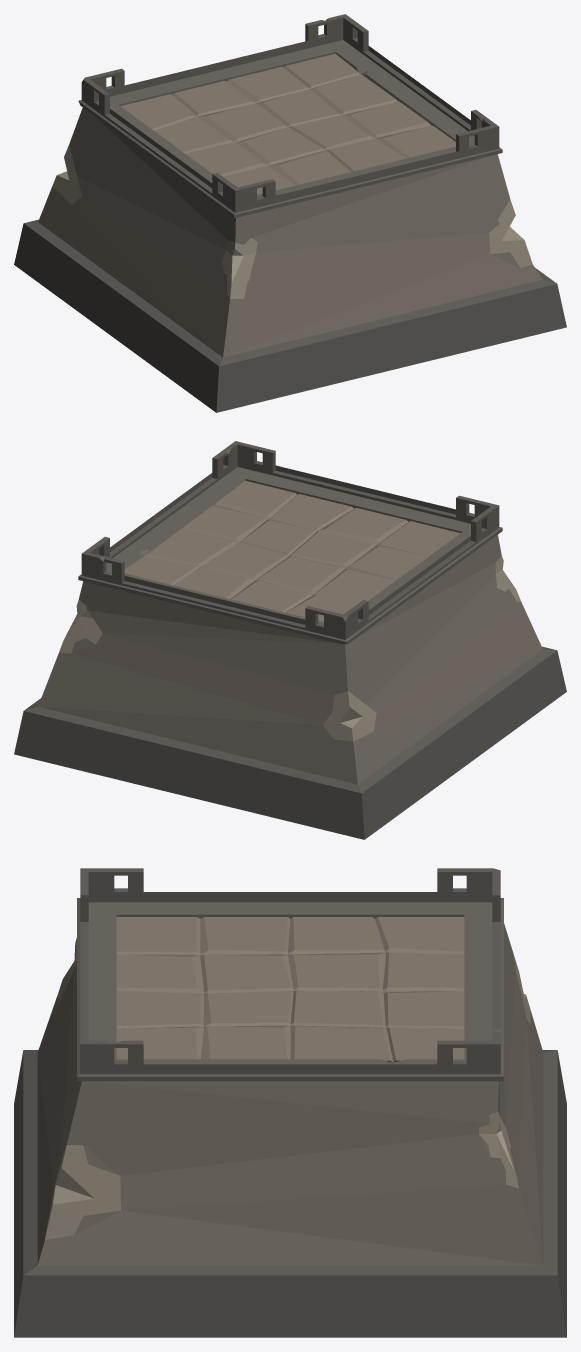
The model's file is SM_Bld_Fort_Base_03.glb.
3 renders of one model, top to bottom at view 1: azimuth 30°, elevation 25°; view 2: azimuth 150°, elevation 25°; view 3: azimuth 270°, elevation 25°, orthographic. The views are drawn at different scales.
Visible parts, largest first — view 1: node_id4; view 2: node_id4; view 3: node_id4.
Boxes of the visible parts, x1,y1,x2,y2 form: node_id4: [14, 14, 566, 412]; node_id4: [14, 441, 566, 839]; node_id4: [14, 868, 566, 1337].
Bounding box in the file's own units: 0.512 × 0.2701 × 0.512.
1 material, 1 textured.
